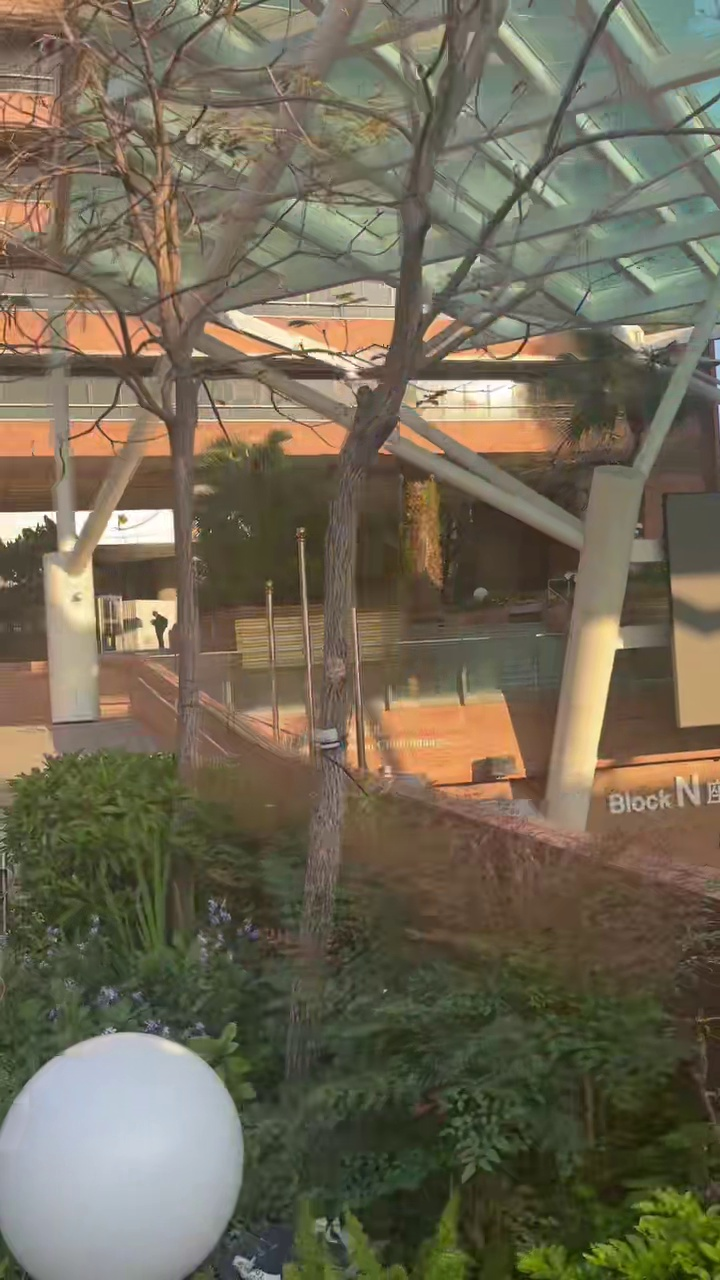Tabebuia chrysantha: (285, 0, 619, 1079)
